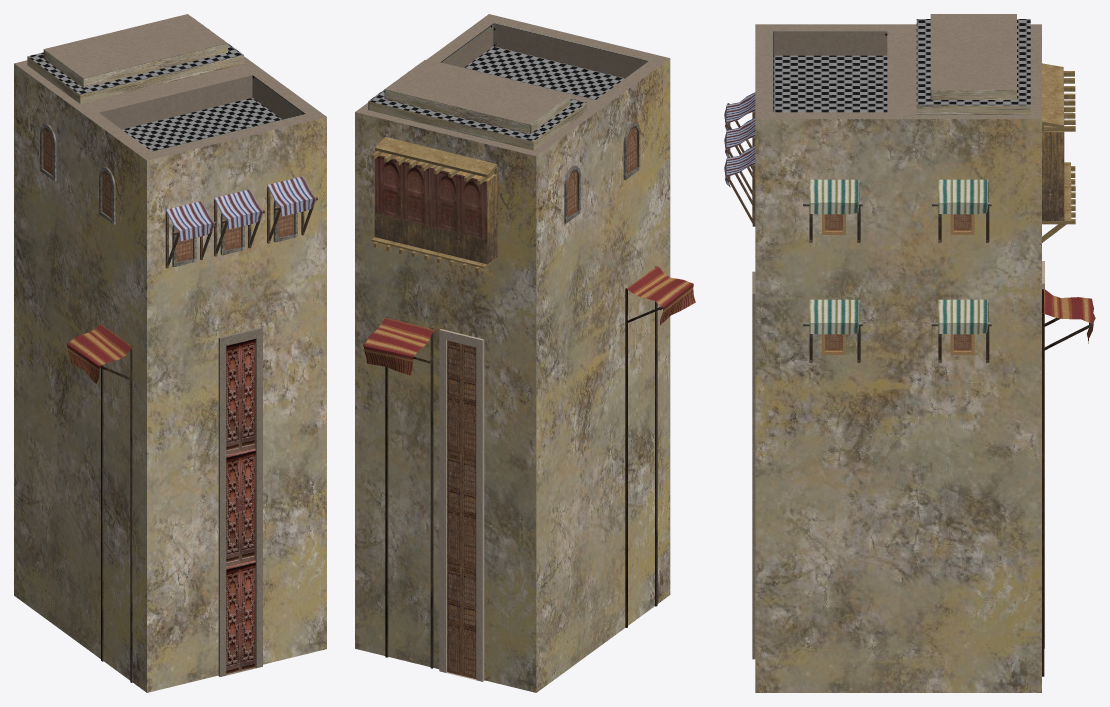
File: medina_cityscape_daar_05_4.gltf
3 renders of one model, left to right at view 1: azimuth 30°, elevation 25°; view 2: azimuth 150°, elevation 25°; view 3: azimuth 270°, elevation 25°, orthographic. The views are drawn at different scales.
Visible parts, largest first — view 1: medina_cityscape_daar_05_4; view 2: medina_cityscape_daar_05_4; view 3: medina_cityscape_daar_05_4.
Part boxes in pixels (x1=…): medina_cityscape_daar_05_4: x1=14, y1=14, x2=326, y2=692; medina_cityscape_daar_05_4: x1=355, y1=14, x2=695, y2=692; medina_cityscape_daar_05_4: x1=724, y1=14, x2=1095, y2=692.
Size of the model in its own units: 4.78 by 10.41 by 5.89.
9 materials, 9 textured.
